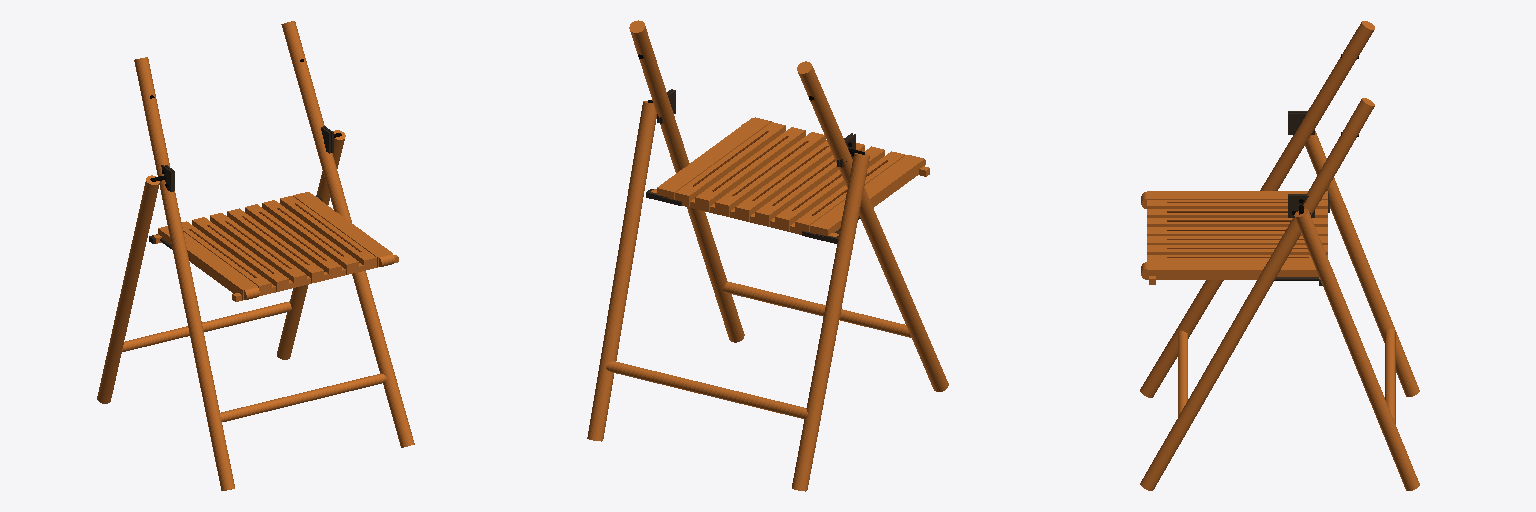
URDF robot description (image_conditioned_wooden_folding_chair):
<robot name="image_conditioned_wooden_folding_chair">
  <link name="front_frame">
    <visual name="front_top_rail_0">
      <origin xyz="-0.1865 -0.041 0.396" rpy="0 0.492049 1.4808" />
      <geometry>
        <cylinder radius="0.014" length="0.871374" />
        </geometry>
      <material name="warm_varnished_honey_oak">
        <color rgba="0.78 0.46 0.2 1" />
        </material>
      </visual>
    <visual name="upper_hinge_plate_0">
      <origin xyz="-0.178 0.04 0.574" rpy="0 0 0" />
      <geometry>
        <box size="0.004 0.05 0.044" />
        </geometry>
      <material name="aged_bronze_hinge_metal">
        <color rgba="0.24 0.2 0.16 1" />
        </material>
      </visual>
    <visual name="upper_hinge_bolt_0_0">
      <origin xyz="-0.181 0.026 0.563" rpy="0 1.5708 3.14159" />
      <geometry>
        <cylinder radius="0.004" length="0.006" />
        </geometry>
      <material name="dark_bronze_bolt_heads">
        <color rgba="0.08 0.07 0.06 1" />
        </material>
      </visual>
    <visual name="upper_hinge_bolt_0_1">
      <origin xyz="-0.181 0.054 0.564" rpy="0 1.5708 3.14159" />
      <geometry>
        <cylinder radius="0.004" length="0.006" />
        </geometry>
      <material name="dark_bronze_bolt_heads">
        <color rgba="0.08 0.07 0.06 1" />
        </material>
      </visual>
    <visual name="upper_hinge_bolt_0_2">
      <origin xyz="-0.181 0.04 0.587" rpy="0 1.5708 3.14159" />
      <geometry>
        <cylinder radius="0.004" length="0.006" />
        </geometry>
      <material name="dark_bronze_bolt_heads">
        <color rgba="0.08 0.07 0.06 1" />
        </material>
      </visual>
    <visual name="front_top_rail_1">
      <origin xyz="0.1865 -0.041 0.396" rpy="0 0.492049 1.6608" />
      <geometry>
        <cylinder radius="0.014" length="0.871374" />
        </geometry>
      <material name="warm_varnished_honey_oak">
        <color rgba="0.78 0.46 0.2 1" />
        </material>
      </visual>
    <visual name="upper_hinge_plate_1">
      <origin xyz="0.178 0.04 0.574" rpy="0 0 0" />
      <geometry>
        <box size="0.004 0.05 0.044" />
        </geometry>
      <material name="aged_bronze_hinge_metal">
        <color rgba="0.24 0.2 0.16 1" />
        </material>
      </visual>
    <visual name="upper_hinge_bolt_1_0">
      <origin xyz="0.181 0.026 0.563" rpy="0 1.5708 0" />
      <geometry>
        <cylinder radius="0.004" length="0.006" />
        </geometry>
      <material name="dark_bronze_bolt_heads">
        <color rgba="0.08 0.07 0.06 1" />
        </material>
      </visual>
    <visual name="upper_hinge_bolt_1_1">
      <origin xyz="0.181 0.054 0.564" rpy="0 1.5708 0" />
      <geometry>
        <cylinder radius="0.004" length="0.006" />
        </geometry>
      <material name="dark_bronze_bolt_heads">
        <color rgba="0.08 0.07 0.06 1" />
        </material>
      </visual>
    <visual name="upper_hinge_bolt_1_2">
      <origin xyz="0.181 0.04 0.587" rpy="0 1.5708 0" />
      <geometry>
        <cylinder radius="0.004" length="0.006" />
        </geometry>
      <material name="dark_bronze_bolt_heads">
        <color rgba="0.08 0.07 0.06 1" />
        </material>
      </visual>
    <visual name="backrest_board">
      <origin xyz="0 0.121 0.715" rpy="0 0 0" />
      <geometry>
        <mesh filename="assets/meshes/single_backrest_board_with_hole.obj" />
        </geometry>
      <material name="warm_varnished_honey_oak">
        <color rgba="0.78 0.46 0.2 1" />
        </material>
      </visual>
    <visual name="backrest_mount_bolt_0">
      <origin xyz="-0.171132 0.13 0.715" rpy="0 1.5708 1.5708" />
      <geometry>
        <cylinder radius="0.0045" length="0.0342" />
        </geometry>
      <material name="dark_bronze_bolt_heads">
        <color rgba="0.08 0.07 0.06 1" />
        </material>
      </visual>
    <visual name="backrest_mount_bolt_1">
      <origin xyz="0.171132 0.13 0.715" rpy="0 1.5708 1.5708" />
      <geometry>
        <cylinder radius="0.0045" length="0.0342" />
        </geometry>
      <material name="dark_bronze_bolt_heads">
        <color rgba="0.08 0.07 0.06 1" />
        </material>
      </visual>
    <visual name="front_lower_stretcher">
      <origin xyz="0 -0.179 0.138" rpy="0 1.5708 0" />
      <geometry>
        <cylinder radius="0.01" length="0.404" />
        </geometry>
      <material name="warm_varnished_honey_oak">
        <color rgba="0.78 0.46 0.2 1" />
        </material>
      </visual>
    <visual name="seat_hinge_brace_0">
      <origin xyz="-0.174 0.0255 0.422" rpy="0 1.5708 1.5708" />
      <geometry>
        <cylinder radius="0.0035" length="0.121" />
        </geometry>
      <material name="aged_bronze_hinge_metal">
        <color rgba="0.24 0.2 0.16 1" />
        </material>
      </visual>
    <visual name="seat_hinge_anchor_0">
      <origin xyz="-0.171 0.082 0.422" rpy="0 0 0" />
      <geometry>
        <box size="0.044 0.018 0.01" />
        </geometry>
      <material name="aged_bronze_hinge_metal">
        <color rgba="0.24 0.2 0.16 1" />
        </material>
      </visual>
    <visual name="seat_hinge_brace_1">
      <origin xyz="0.174 0.0255 0.422" rpy="0 1.5708 1.5708" />
      <geometry>
        <cylinder radius="0.0035" length="0.121" />
        </geometry>
      <material name="aged_bronze_hinge_metal">
        <color rgba="0.24 0.2 0.16 1" />
        </material>
      </visual>
    <visual name="seat_hinge_anchor_1">
      <origin xyz="0.171 0.082 0.422" rpy="0 0 0" />
      <geometry>
        <box size="0.044 0.018 0.01" />
        </geometry>
      <material name="aged_bronze_hinge_metal">
        <color rgba="0.24 0.2 0.16 1" />
        </material>
      </visual>
    </link>
  <link name="rear_support">
    <visual name="rear_leg_0">
      <origin xyz="-0.2085 0.103 -0.281" rpy="0 2.79007 1.53683" />
      <geometry>
        <cylinder radius="0.014" length="0.598606" />
        </geometry>
      <material name="warm_varnished_honey_oak">
        <color rgba="0.78 0.46 0.2 1" />
        </material>
      </visual>
    <visual name="rear_pivot_plate_0">
      <origin xyz="-0.184 0 0" rpy="0 0 0" />
      <geometry>
        <box size="0.004 0.05 0.044" />
        </geometry>
      <material name="aged_bronze_hinge_metal">
        <color rgba="0.24 0.2 0.16 1" />
        </material>
      </visual>
    <visual name="rear_pivot_bolt_0_0">
      <origin xyz="-0.187 -0.014 -0.011" rpy="0 1.5708 3.14159" />
      <geometry>
        <cylinder radius="0.004" length="0.006" />
        </geometry>
      <material name="dark_bronze_bolt_heads">
        <color rgba="0.08 0.07 0.06 1" />
        </material>
      </visual>
    <visual name="rear_pivot_bolt_0_1">
      <origin xyz="-0.187 0.014 -0.01" rpy="0 1.5708 3.14159" />
      <geometry>
        <cylinder radius="0.004" length="0.006" />
        </geometry>
      <material name="dark_bronze_bolt_heads">
        <color rgba="0.08 0.07 0.06 1" />
        </material>
      </visual>
    <visual name="rear_pivot_bolt_0_2">
      <origin xyz="-0.187 0 0.013" rpy="0 1.5708 3.14159" />
      <geometry>
        <cylinder radius="0.004" length="0.006" />
        </geometry>
      <material name="dark_bronze_bolt_heads">
        <color rgba="0.08 0.07 0.06 1" />
        </material>
      </visual>
    <visual name="rear_hinge_pin_0">
      <origin xyz="-0.2 0 0" rpy="0 1.5708 3.14159" />
      <geometry>
        <cylinder radius="0.0045" length="0.032" />
        </geometry>
      <material name="dark_bronze_bolt_heads">
        <color rgba="0.08 0.07 0.06 1" />
        </material>
      </visual>
    <visual name="rear_leg_1">
      <origin xyz="0.2085 0.103 -0.281" rpy="0 2.79007 1.60476" />
      <geometry>
        <cylinder radius="0.014" length="0.598606" />
        </geometry>
      <material name="warm_varnished_honey_oak">
        <color rgba="0.78 0.46 0.2 1" />
        </material>
      </visual>
    <visual name="rear_pivot_plate_1">
      <origin xyz="0.184 0 0" rpy="0 0 0" />
      <geometry>
        <box size="0.004 0.05 0.044" />
        </geometry>
      <material name="aged_bronze_hinge_metal">
        <color rgba="0.24 0.2 0.16 1" />
        </material>
      </visual>
    <visual name="rear_pivot_bolt_1_0">
      <origin xyz="0.187 -0.014 -0.011" rpy="0 1.5708 0" />
      <geometry>
        <cylinder radius="0.004" length="0.006" />
        </geometry>
      <material name="dark_bronze_bolt_heads">
        <color rgba="0.08 0.07 0.06 1" />
        </material>
      </visual>
    <visual name="rear_pivot_bolt_1_1">
      <origin xyz="0.187 0.014 -0.01" rpy="0 1.5708 0" />
      <geometry>
        <cylinder radius="0.004" length="0.006" />
        </geometry>
      <material name="dark_bronze_bolt_heads">
        <color rgba="0.08 0.07 0.06 1" />
        </material>
      </visual>
    <visual name="rear_pivot_bolt_1_2">
      <origin xyz="0.187 0 0.013" rpy="0 1.5708 0" />
      <geometry>
        <cylinder radius="0.004" length="0.006" />
        </geometry>
      <material name="dark_bronze_bolt_heads">
        <color rgba="0.08 0.07 0.06 1" />
        </material>
      </visual>
    <visual name="rear_hinge_pin_1">
      <origin xyz="0.2 0 0" rpy="0 1.5708 0" />
      <geometry>
        <cylinder radius="0.0045" length="0.032" />
        </geometry>
      <material name="dark_bronze_bolt_heads">
        <color rgba="0.08 0.07 0.06 1" />
        </material>
      </visual>
    <visual name="rear_lower_stretcher">
      <origin xyz="0 0.164 -0.436" rpy="0 1.5708 0" />
      <geometry>
        <cylinder radius="0.01" length="0.404" />
        </geometry>
      <material name="warm_varnished_honey_oak">
        <color rgba="0.78 0.46 0.2 1" />
        </material>
      </visual>
    </link>
  <link name="seat">
    <visual name="seat_side_rail_0">
      <origin xyz="-0.154 -0.1675 -0.011" rpy="0 0 0" />
      <geometry>
        <box size="0.036 0.335 0.022" />
        </geometry>
      <material name="warm_varnished_honey_oak">
        <color rgba="0.78 0.46 0.2 1" />
        </material>
      </visual>
    <visual name="seat_front_round_0">
      <origin xyz="-0.154 -0.335 -0.011" rpy="0 1.5708 0" />
      <geometry>
        <cylinder radius="0.011" length="0.03" />
        </geometry>
      <material name="warm_varnished_honey_oak">
        <color rgba="0.78 0.46 0.2 1" />
        </material>
      </visual>
    <visual name="seat_side_rail_1">
      <origin xyz="0.154 -0.1675 -0.011" rpy="0 0 0" />
      <geometry>
        <box size="0.036 0.335 0.022" />
        </geometry>
      <material name="warm_varnished_honey_oak">
        <color rgba="0.78 0.46 0.2 1" />
        </material>
      </visual>
    <visual name="seat_front_round_1">
      <origin xyz="0.154 -0.335 -0.011" rpy="0 1.5708 0" />
      <geometry>
        <cylinder radius="0.011" length="0.03" />
        </geometry>
      <material name="warm_varnished_honey_oak">
        <color rgba="0.78 0.46 0.2 1" />
        </material>
      </visual>
    <visual name="center_slat_0">
      <origin xyz="-0.12 -0.1675 -0.011" rpy="0 0 0" />
      <geometry>
        <box size="0.028 0.335 0.022" />
        </geometry>
      <material name="warm_varnished_honey_oak">
        <color rgba="0.78 0.46 0.2 1" />
        </material>
      </visual>
    <visual name="slat_grain_0">
      <origin xyz="-0.12 -0.1675 0.0002" rpy="0 0 0" />
      <geometry>
        <box size="0.004 0.2613 0.001" />
        </geometry>
      <material name="subtle_end_grain">
        <color rgba="0.46 0.25 0.1 1" />
        </material>
      </visual>
    <visual name="center_slat_1">
      <origin xyz="-0.08 -0.1675 -0.011" rpy="0 0 0" />
      <geometry>
        <box size="0.028 0.335 0.022" />
        </geometry>
      <material name="warm_varnished_honey_oak">
        <color rgba="0.78 0.46 0.2 1" />
        </material>
      </visual>
    <visual name="slat_grain_1">
      <origin xyz="-0.08 -0.1675 0.0002" rpy="0 0 0" />
      <geometry>
        <box size="0.004 0.2613 0.001" />
        </geometry>
      <material name="subtle_end_grain">
        <color rgba="0.46 0.25 0.1 1" />
        </material>
      </visual>
    <visual name="center_slat_2">
      <origin xyz="-0.04 -0.1675 -0.011" rpy="0 0 0" />
      <geometry>
        <box size="0.028 0.335 0.022" />
        </geometry>
      <material name="warm_varnished_honey_oak">
        <color rgba="0.78 0.46 0.2 1" />
        </material>
      </visual>
    <visual name="slat_grain_2">
      <origin xyz="-0.04 -0.1675 0.0002" rpy="0 0 0" />
      <geometry>
        <box size="0.004 0.2613 0.001" />
        </geometry>
      <material name="subtle_end_grain">
        <color rgba="0.46 0.25 0.1 1" />
        </material>
      </visual>
    <visual name="center_slat_3">
      <origin xyz="0 -0.1675 -0.011" rpy="0 0 0" />
      <geometry>
        <box size="0.028 0.335 0.022" />
        </geometry>
      <material name="warm_varnished_honey_oak">
        <color rgba="0.78 0.46 0.2 1" />
        </material>
      </visual>
    <visual name="slat_grain_3">
      <origin xyz="0 -0.1675 0.0002" rpy="0 0 0" />
      <geometry>
        <box size="0.004 0.2613 0.001" />
        </geometry>
      <material name="subtle_end_grain">
        <color rgba="0.46 0.25 0.1 1" />
        </material>
      </visual>
    <visual name="center_slat_4">
      <origin xyz="0.04 -0.1675 -0.011" rpy="0 0 0" />
      <geometry>
        <box size="0.028 0.335 0.022" />
        </geometry>
      <material name="warm_varnished_honey_oak">
        <color rgba="0.78 0.46 0.2 1" />
        </material>
      </visual>
    <visual name="slat_grain_4">
      <origin xyz="0.04 -0.1675 0.0002" rpy="0 0 0" />
      <geometry>
        <box size="0.004 0.2613 0.001" />
        </geometry>
      <material name="subtle_end_grain">
        <color rgba="0.46 0.25 0.1 1" />
        </material>
      </visual>
    <visual name="center_slat_5">
      <origin xyz="0.08 -0.1675 -0.011" rpy="0 0 0" />
      <geometry>
        <box size="0.028 0.335 0.022" />
        </geometry>
      <material name="warm_varnished_honey_oak">
        <color rgba="0.78 0.46 0.2 1" />
        </material>
      </visual>
    <visual name="slat_grain_5">
      <origin xyz="0.08 -0.1675 0.0002" rpy="0 0 0" />
      <geometry>
        <box size="0.004 0.2613 0.001" />
        </geometry>
      <material name="subtle_end_grain">
        <color rgba="0.46 0.25 0.1 1" />
        </material>
      </visual>
    <visual name="center_slat_6">
      <origin xyz="0.12 -0.1675 -0.011" rpy="0 0 0" />
      <geometry>
        <box size="0.028 0.335 0.022" />
        </geometry>
      <material name="warm_varnished_honey_oak">
        <color rgba="0.78 0.46 0.2 1" />
        </material>
      </visual>
    <visual name="slat_grain_6">
      <origin xyz="0.12 -0.1675 0.0002" rpy="0 0 0" />
      <geometry>
        <box size="0.004 0.2613 0.001" />
        </geometry>
      <material name="subtle_end_grain">
        <color rgba="0.46 0.25 0.1 1" />
        </material>
      </visual>
    <visual name="front_slat_tie">
      <origin xyz="0 -0.325 -0.018" rpy="0 0 0" />
      <geometry>
        <box size="0.372 0.014 0.012" />
        </geometry>
      <material name="warm_varnished_honey_oak">
        <color rgba="0.78 0.46 0.2 1" />
        </material>
      </visual>
    <visual name="rear_hinge_tie">
      <origin xyz="0 -0.01 -0.018" rpy="0 0 0" />
      <geometry>
        <box size="0.372 0.014 0.012" />
        </geometry>
      <material name="warm_varnished_honey_oak">
        <color rgba="0.78 0.46 0.2 1" />
        </material>
      </visual>
    <visual name="seat_hinge_leaf_0">
      <origin xyz="-0.143 -0.006 -0.018" rpy="0 0 0" />
      <geometry>
        <box size="0.044 0.018 0.008" />
        </geometry>
      <material name="aged_bronze_hinge_metal">
        <color rgba="0.24 0.2 0.16 1" />
        </material>
      </visual>
    <visual name="seat_hinge_bolt_0">
      <origin xyz="-0.161 -0.006 -0.01" rpy="0 1.5708 3.14159" />
      <geometry>
        <cylinder radius="0.005" length="0.014" />
        </geometry>
      <material name="dark_bronze_bolt_heads">
        <color rgba="0.08 0.07 0.06 1" />
        </material>
      </visual>
    <visual name="seat_hinge_leaf_1">
      <origin xyz="0.143 -0.006 -0.018" rpy="0 0 0" />
      <geometry>
        <box size="0.044 0.018 0.008" />
        </geometry>
      <material name="aged_bronze_hinge_metal">
        <color rgba="0.24 0.2 0.16 1" />
        </material>
      </visual>
    <visual name="seat_hinge_bolt_1">
      <origin xyz="0.161 -0.006 -0.01" rpy="0 1.5708 0" />
      <geometry>
        <cylinder radius="0.005" length="0.014" />
        </geometry>
      <material name="dark_bronze_bolt_heads">
        <color rgba="0.08 0.07 0.06 1" />
        </material>
      </visual>
    </link>
  <joint name="front_to_rear" type="revolute">
    <origin xyz="0 0.04 0.574" rpy="0 0 0" />
    <parent link="front_frame" />
    <child link="rear_support" />
    <axis xyz="1 0 0" />
    <limit effort="15" velocity="1.2" lower="-0.82" upper="0.12" />
    </joint>
  <joint name="front_to_seat" type="revolute">
    <origin xyz="0 0.09 0.44" rpy="0 0 0" />
    <parent link="front_frame" />
    <child link="seat" />
    <axis xyz="-1 0 0" />
    <limit effort="8" velocity="1.4" lower="0" upper="1.35" />
    </joint>
  </robot>

--- Facts derived from the render (not from the file) ---
The picture shows the robot from 3 angles, left to right: view 1: azimuth 30°, elevation 25°; view 2: azimuth 150°, elevation 25°; view 3: azimuth 270°, elevation 25°; orthographic projection.
Robot: image_conditioned_wooden_folding_chair — 3 links, 2 joints (2 revolute); root link front_frame; default pose: every joint at zero.
Links seen in each view (by area): view 1: seat, front_frame, rear_support; view 2: seat, rear_support, front_frame; view 3: seat, front_frame, rear_support.
Boxes of the visible links, left/top/right/bottom form: seat: left=153, top=192, right=398, bottom=301; front_frame: left=134, top=21, right=414, bottom=490; rear_support: left=97, top=126, right=345, bottom=403; seat: left=651, top=117, right=929, bottom=240; rear_support: left=587, top=89, right=869, bottom=491; front_frame: left=629, top=20, right=948, bottom=391; seat: left=1141, top=191, right=1329, bottom=284; front_frame: left=1140, top=21, right=1374, bottom=490; rear_support: left=1288, top=111, right=1419, bottom=490.
Bounding box of the posed robot: 0.452 × 0.5174 × 0.7812 m (x, y, z).
0 mesh visuals loaded from 1 distinct referenced files (none loaded); not drawn: 1 (reference not matched to a file when rendering).
